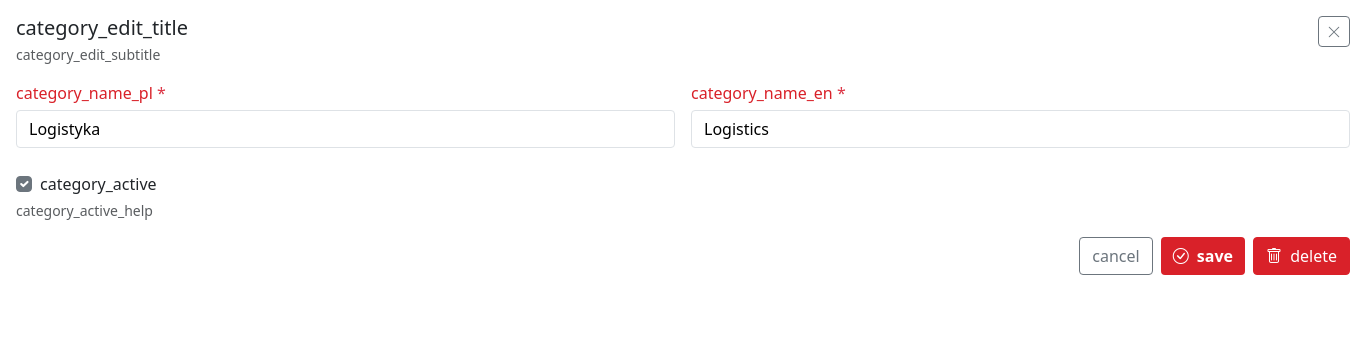
Test case: CategoryFormModal › Edit Mode › handles update conflict error (409)
The width and height of the screenshot is (1366, 362).
Step 1. Replace the text in the field labelled "category_name_pl *" with "Logistyka Updated" → (346, 129), box [16,110,675,148]
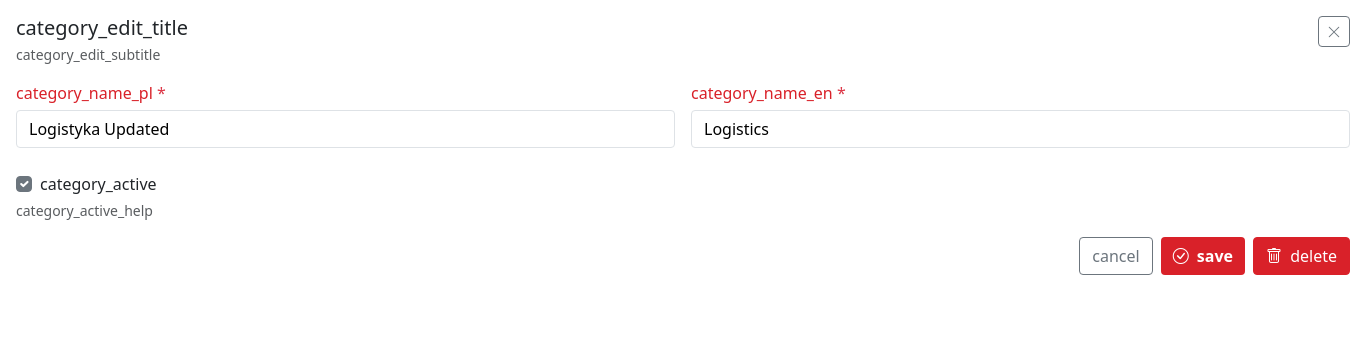
Step 2. Submit the text "save", box [16,65,1350,275]
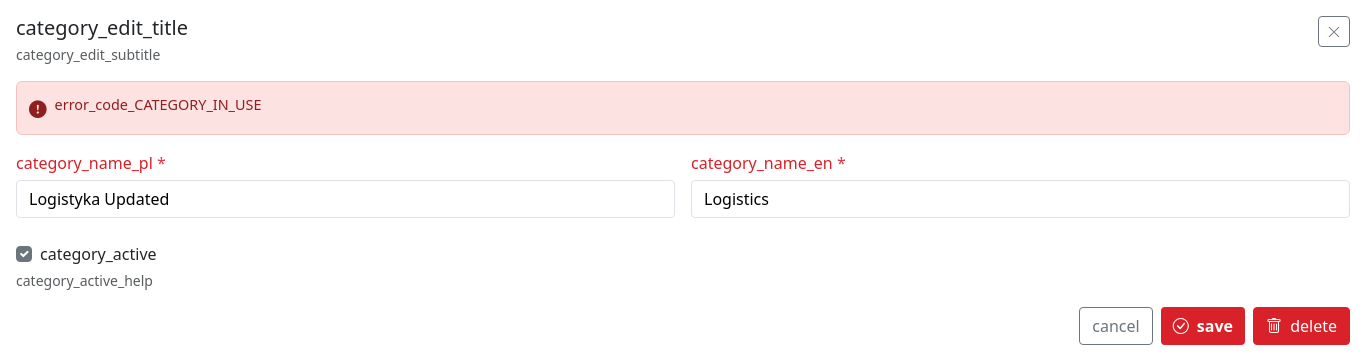
Check: the text "error_code_CATEGORY_IN_USE" is shown, box [55,94,261,116]
